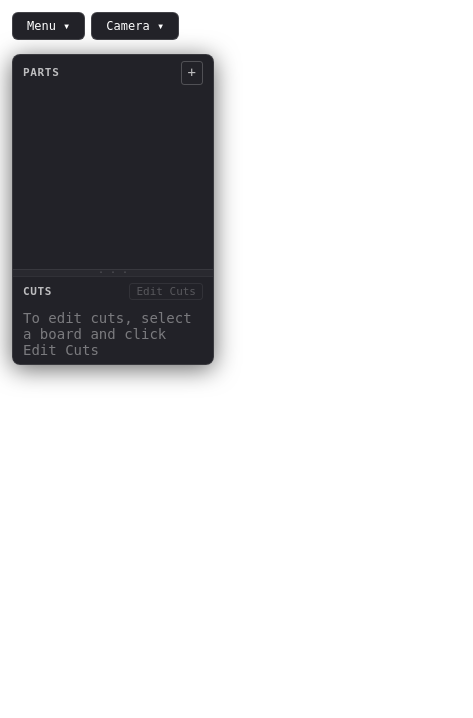
Help pane mentions pan › help pane contains the word "pan"
Click the button with id "menu-btn".
click(49, 26)  # box [12,12,85,40]
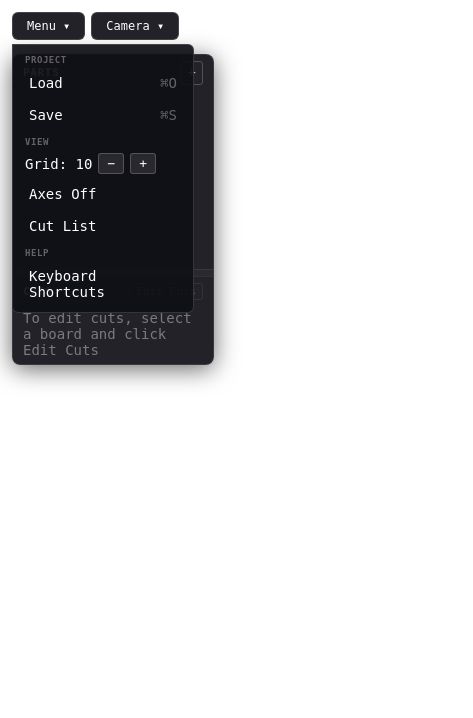
Click the button "Keyboard Shortcuts".
click(103, 284)  # box [13,260,193,308]
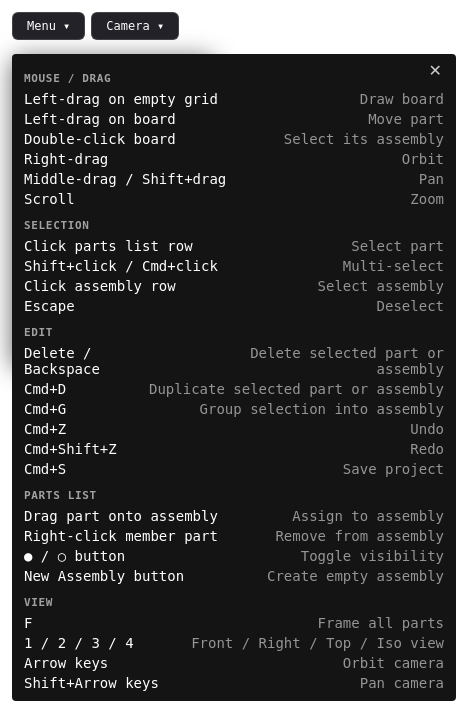
Check: the element with id "help-pane" is shown
